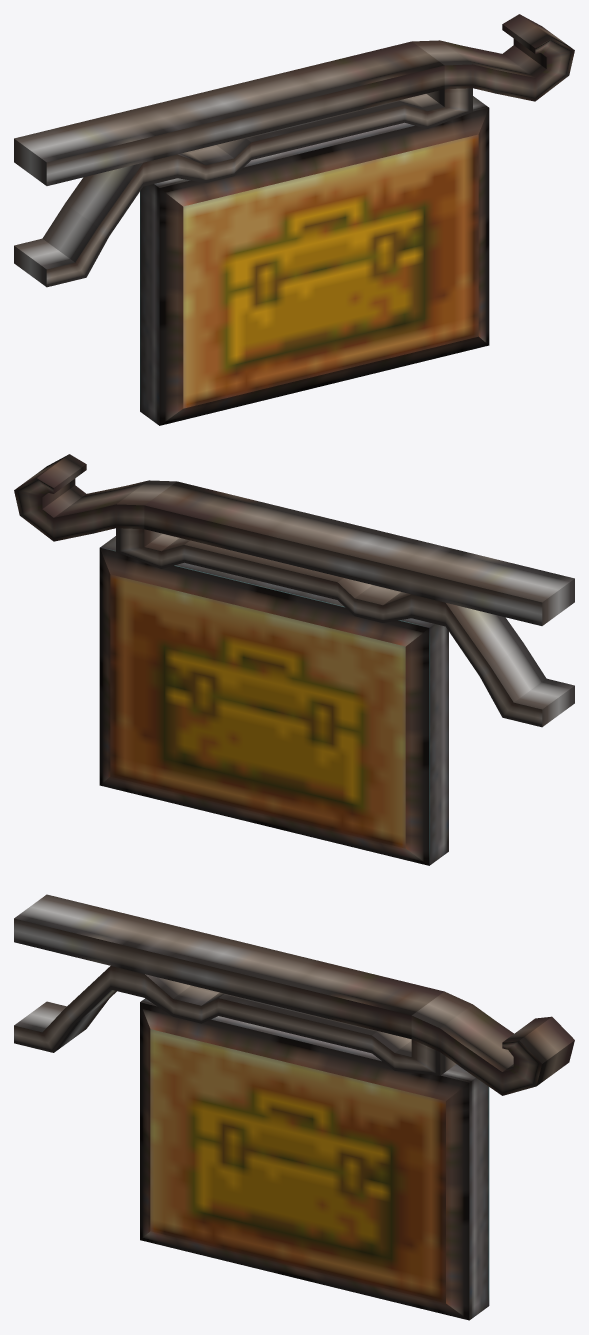
The model's file is Poly_SF_Outside_B_Board_Sign_03.obj.
3 renders of one model, top to bottom at view 1: azimuth 30°, elevation 25°; view 2: azimuth 150°, elevation 25°; view 3: azimuth 330°, elevation 25°, orthographic.
Visible parts, largest first — view 1: Cube, Cube.001; view 2: Cube, Cube.001; view 3: Cube, Cube.001.
Boxes of the visible parts, x1,y1,x2,y2 form: Cube: (140, 96, 489, 425); Cube.001: (14, 14, 574, 287); Cube: (99, 536, 448, 865); Cube.001: (14, 454, 574, 727); Cube: (140, 998, 489, 1320); Cube.001: (14, 894, 574, 1095).
Bounding box in the file's own units: 0.9295 × 0.5019 × 0.1.
1 material, 1 textured.
